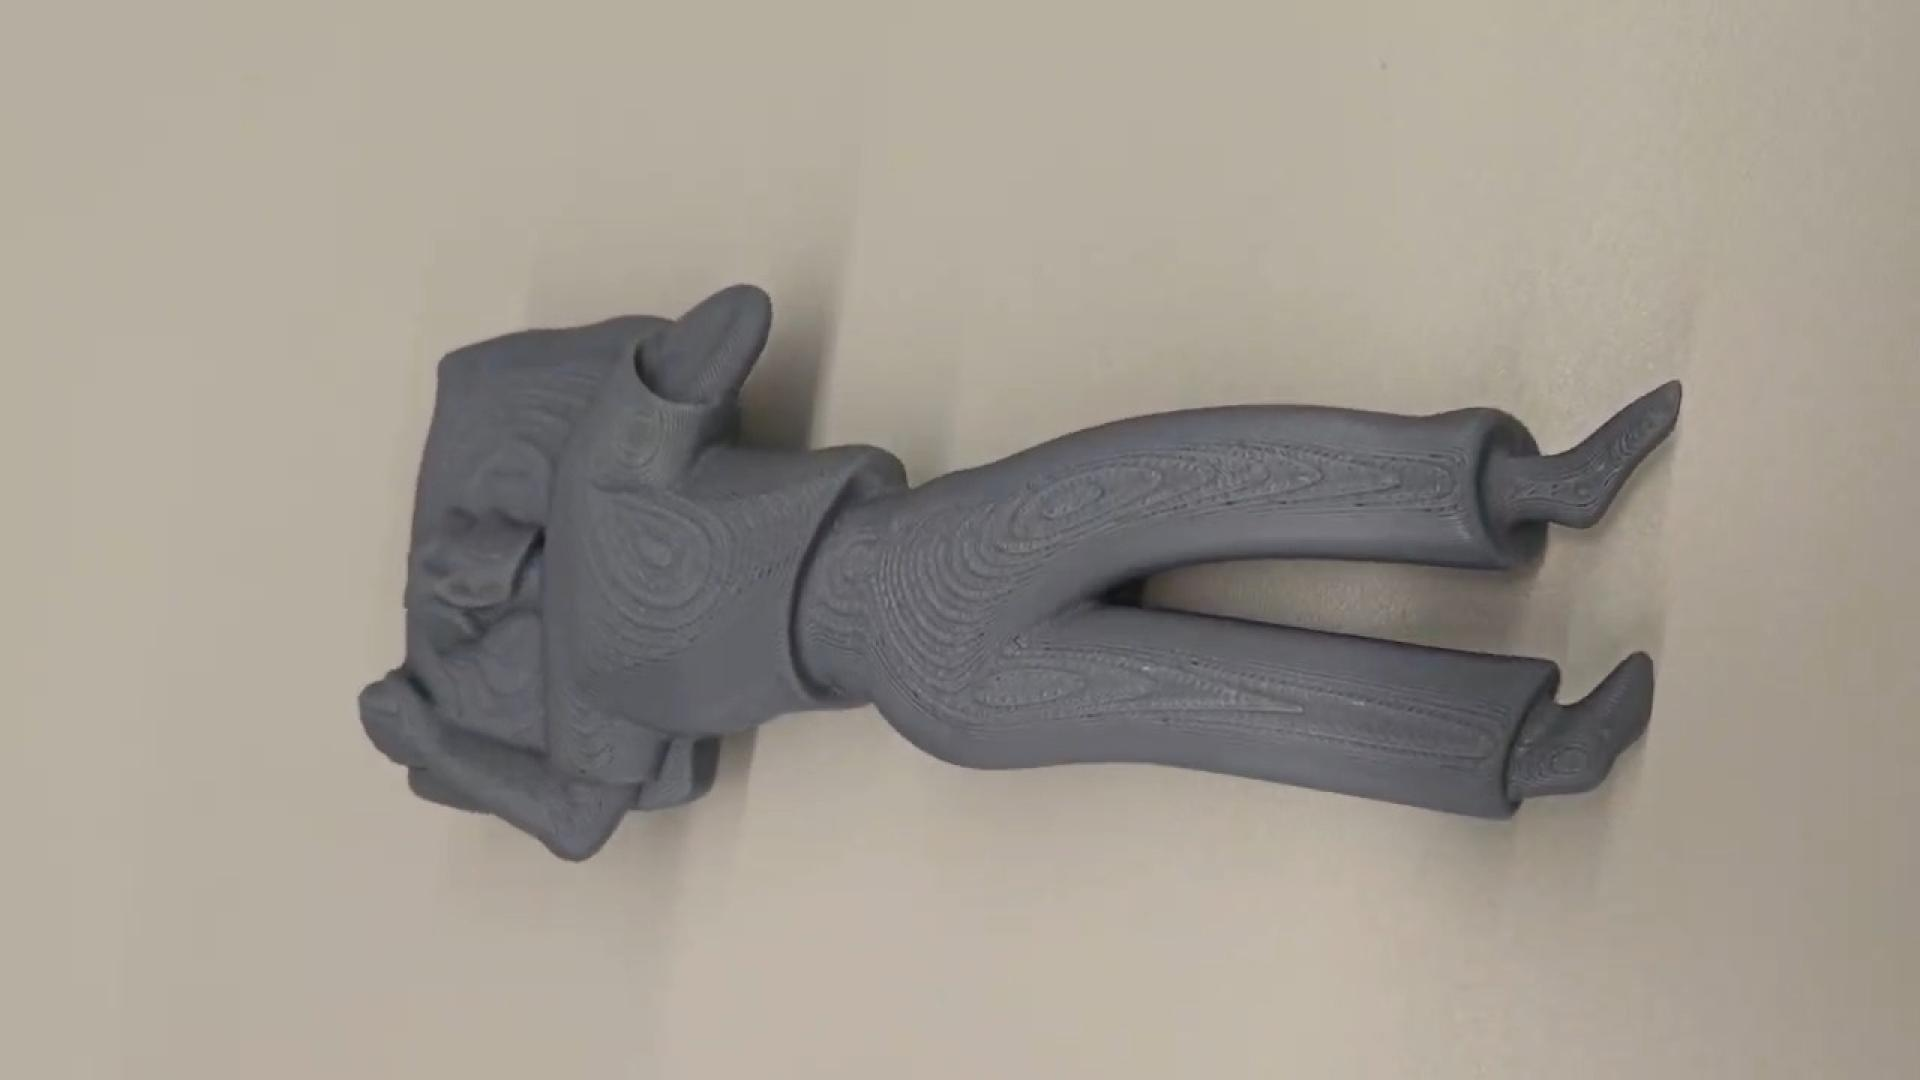Bad-style: (367, 264, 1685, 865)
